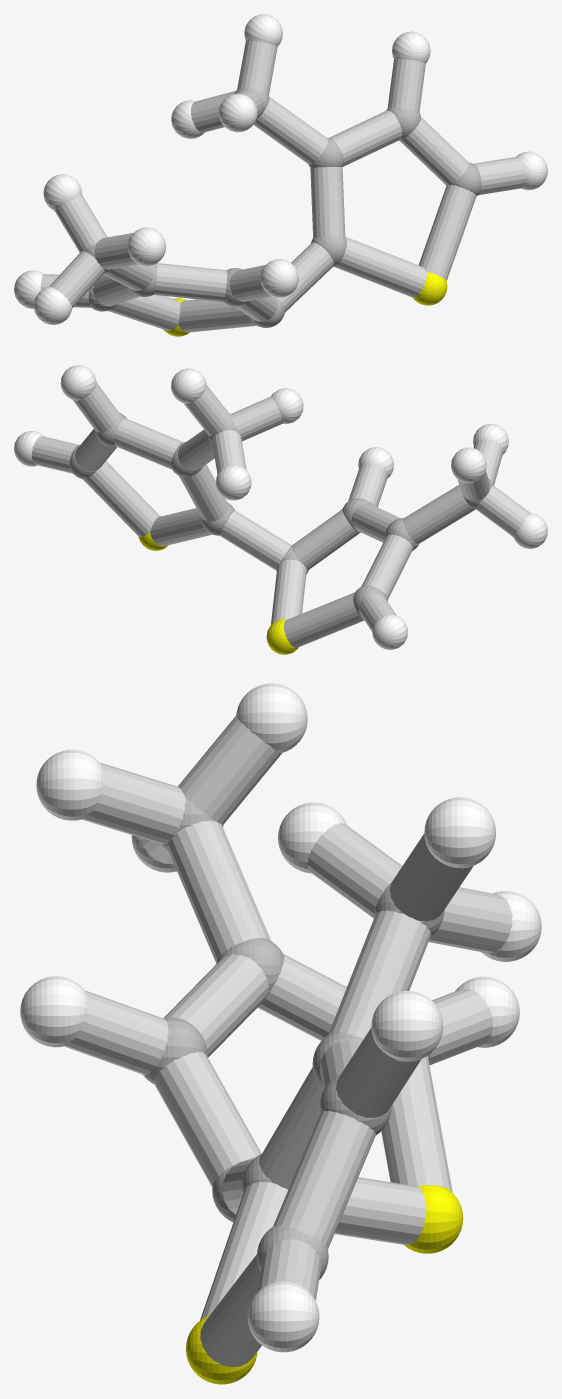
The model's file is Methylthiophene_Phi_50_Theta_100_Methylthiophene.glb.
3 renders of one model, top to bottom at view 1: azimuth 30°, elevation 25°; view 2: azimuth 150°, elevation 25°; view 3: azimuth 270°, elevation 25°, orthographic. The views are drawn at different scales.
Visible parts, largest first — view 1: grp7965, grp3621, grp1, grp7241; view 2: grp7965, grp3621, grp1, grp7241; view 3: grp7965, grp3621, grp1, grp7241.
Part boxes in pixels (x1,y1,x2,y2): grp7965: (40, 40, 525, 332); grp3621: (14, 14, 547, 324); grp1: (84, 89, 481, 327); grp7241: (163, 272, 447, 336); grp7965: (31, 382, 530, 647); grp3621: (14, 365, 547, 649); grp1: (69, 412, 493, 617); grp7241: (138, 515, 298, 654); grp7965: (64, 715, 512, 1367); grp3621: (20, 683, 541, 1352); grp1: (143, 797, 444, 1279); grp7241: (186, 1185, 463, 1384).
Bounding box in the file's own units: 9.65 × 4.94 × 4.36.
